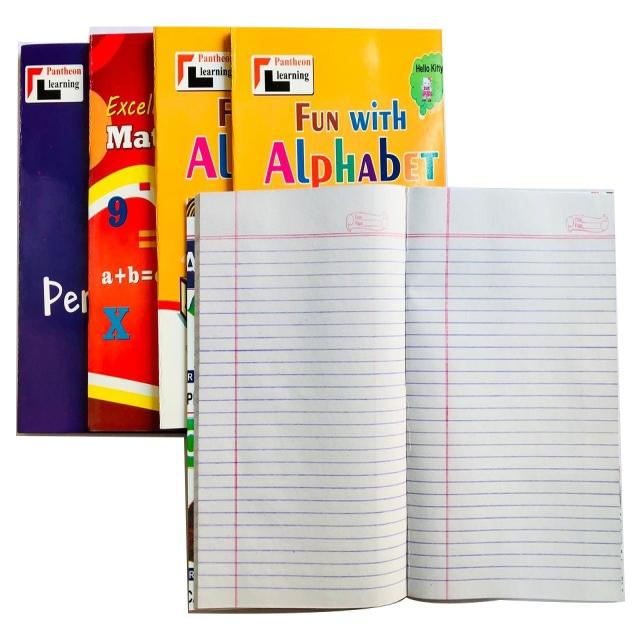notebook: (192, 187, 638, 616)
